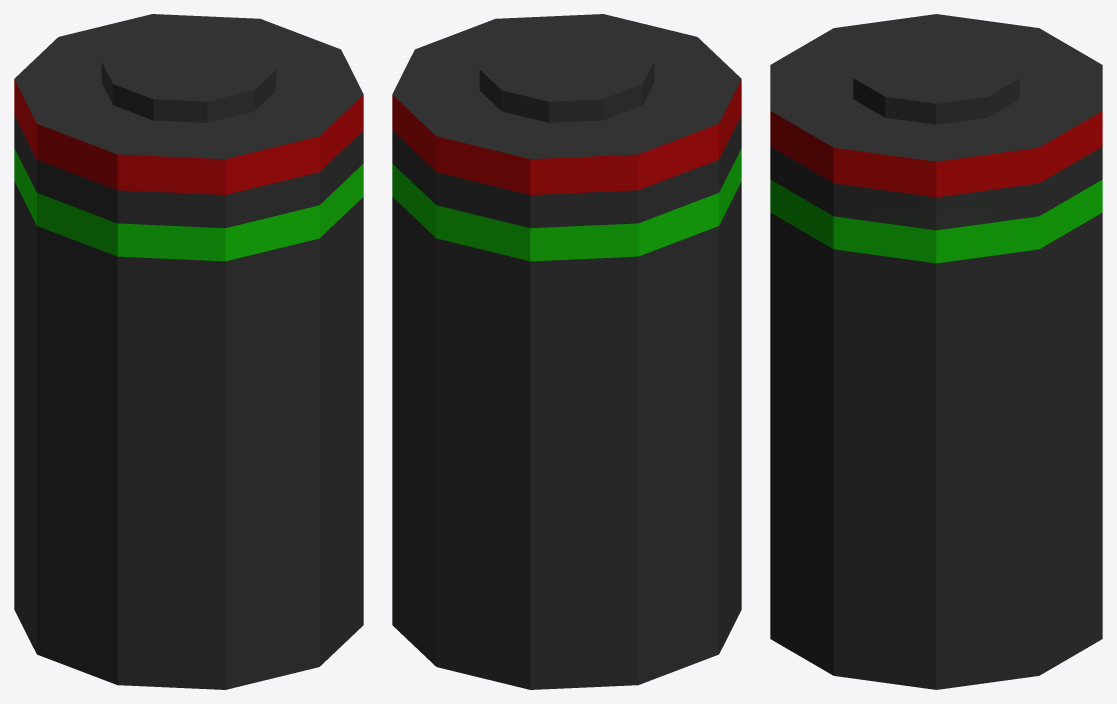
File: SM_ware01.FBX
3 renders of one model, left to right at view 1: azimuth 30°, elevation 25°; view 2: azimuth 150°, elevation 25°; view 3: azimuth 270°, elevation 25°, orthographic.
Parts seen in each view (by area): view 1: ware; view 2: ware; view 3: ware.
Boxes of the visible parts, x1=… form: ware: x1=14, y1=14, x2=363, y2=689; ware: x1=392, y1=14, x2=741, y2=689; ware: x1=770, y1=14, x2=1102, y2=689.
Size of the model in its own units: 30 by 52 by 28.53.
